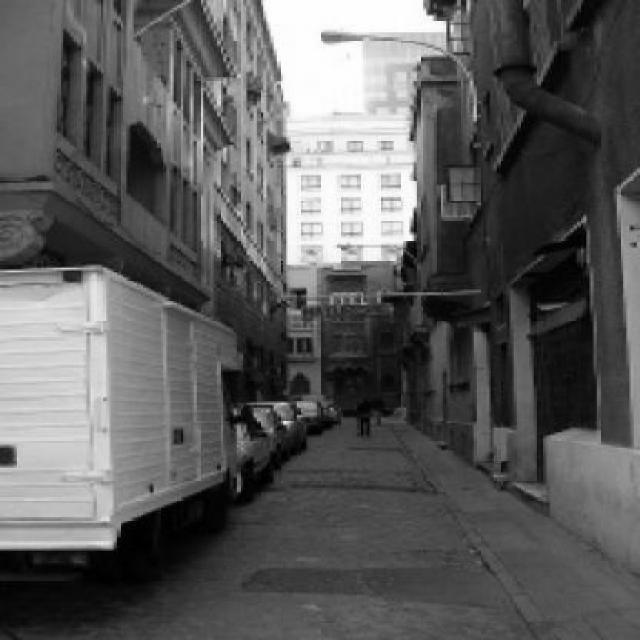Box Truck: (0, 266, 244, 581)
